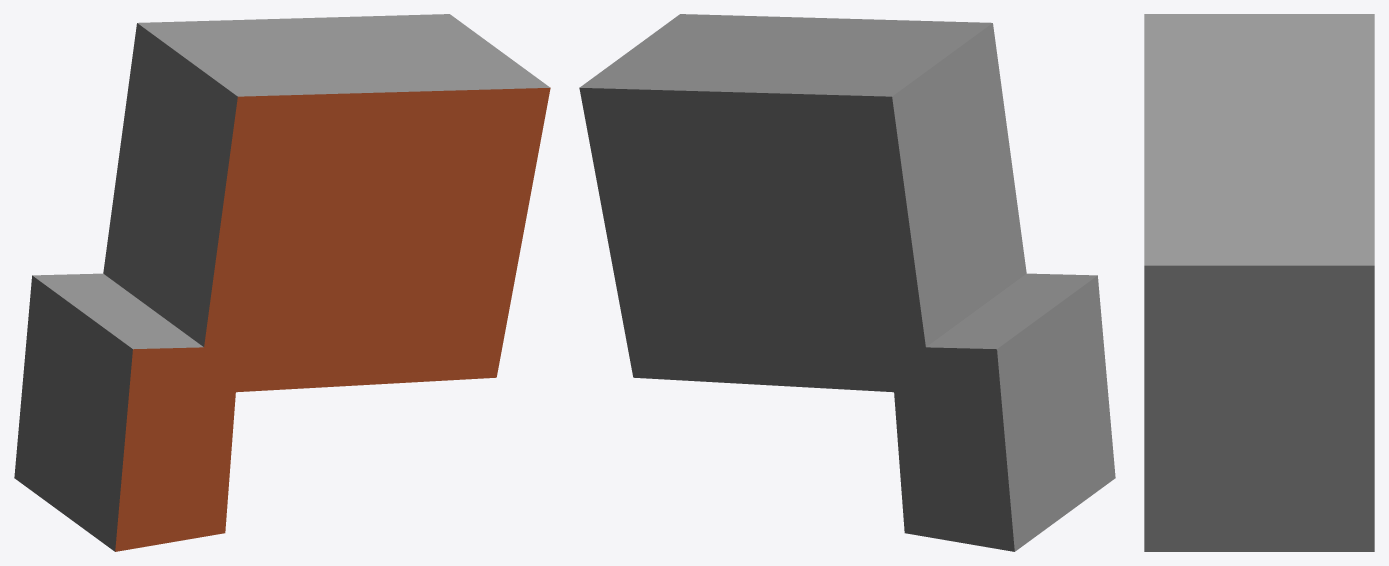
The model's file is construction_3473_assumed_A_Casa_h6m.obj.
3 renders of one model, left to right at view 1: azimuth 30°, elevation 25°; view 2: azimuth 150°, elevation 25°; view 3: azimuth 270°, elevation 25°, orthographic. The views are drawn at different scales.
Parts seen in each view (by area): view 1: construction_3473_assumed_A_Casa; view 2: construction_3473_assumed_A_Casa; view 3: construction_3473_assumed_A_Casa.
Part boxes in pixels (x1,y1,x2,y2): construction_3473_assumed_A_Casa: (14,14,550,551); construction_3473_assumed_A_Casa: (579,14,1115,551); construction_3473_assumed_A_Casa: (1144,14,1374,551).
Size of the model in its own units: 14.96 by 14.23 by 6.
